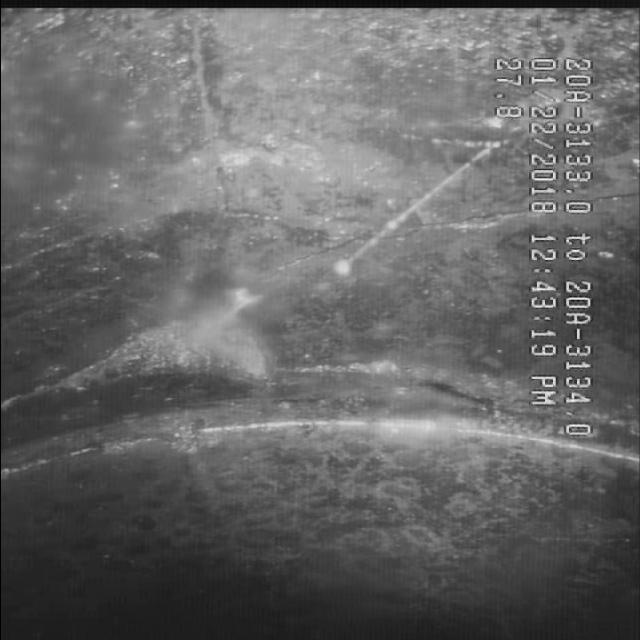Crack: (36, 39, 490, 314)
